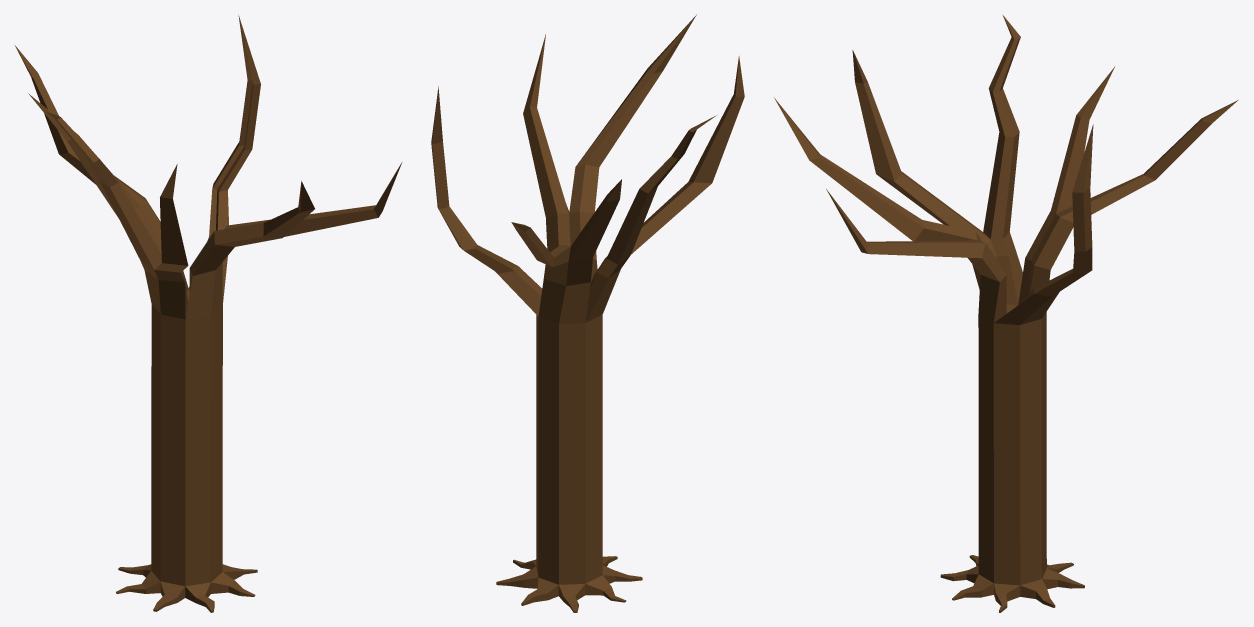
The model's file is treef2.glb.
3 renders of one model, left to right at view 1: azimuth 30°, elevation 25°; view 2: azimuth 150°, elevation 25°; view 3: azimuth 270°, elevation 25°, orthographic. The views are drawn at different scales.
Parts seen in each view (by area): view 1: Cylinder.031; view 2: Cylinder.031; view 3: Cylinder.031.
Boxes of the visible parts, bbox=[...] form: Cylinder.031: bbox=[15, 15, 402, 612]; Cylinder.031: bbox=[431, 14, 744, 612]; Cylinder.031: bbox=[774, 14, 1238, 612].
Size of the model in its own units: 5.12 by 9.41 by 7.89.
